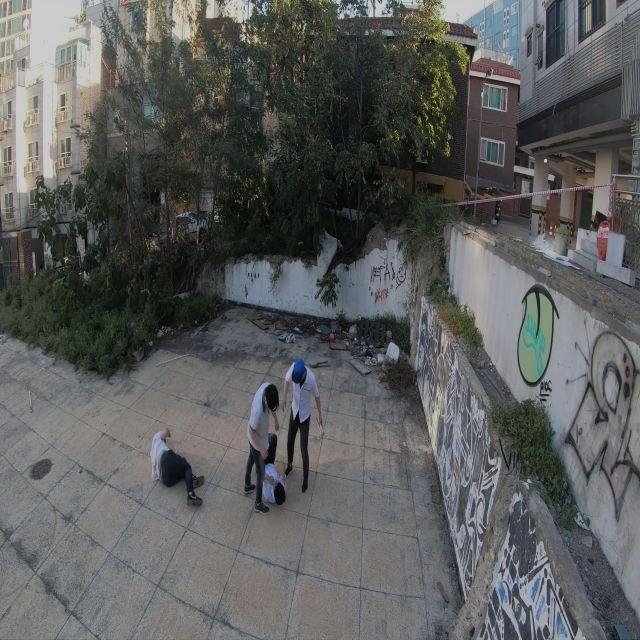fight: (241, 360, 320, 513)
non-fight: (146, 426, 205, 507)
